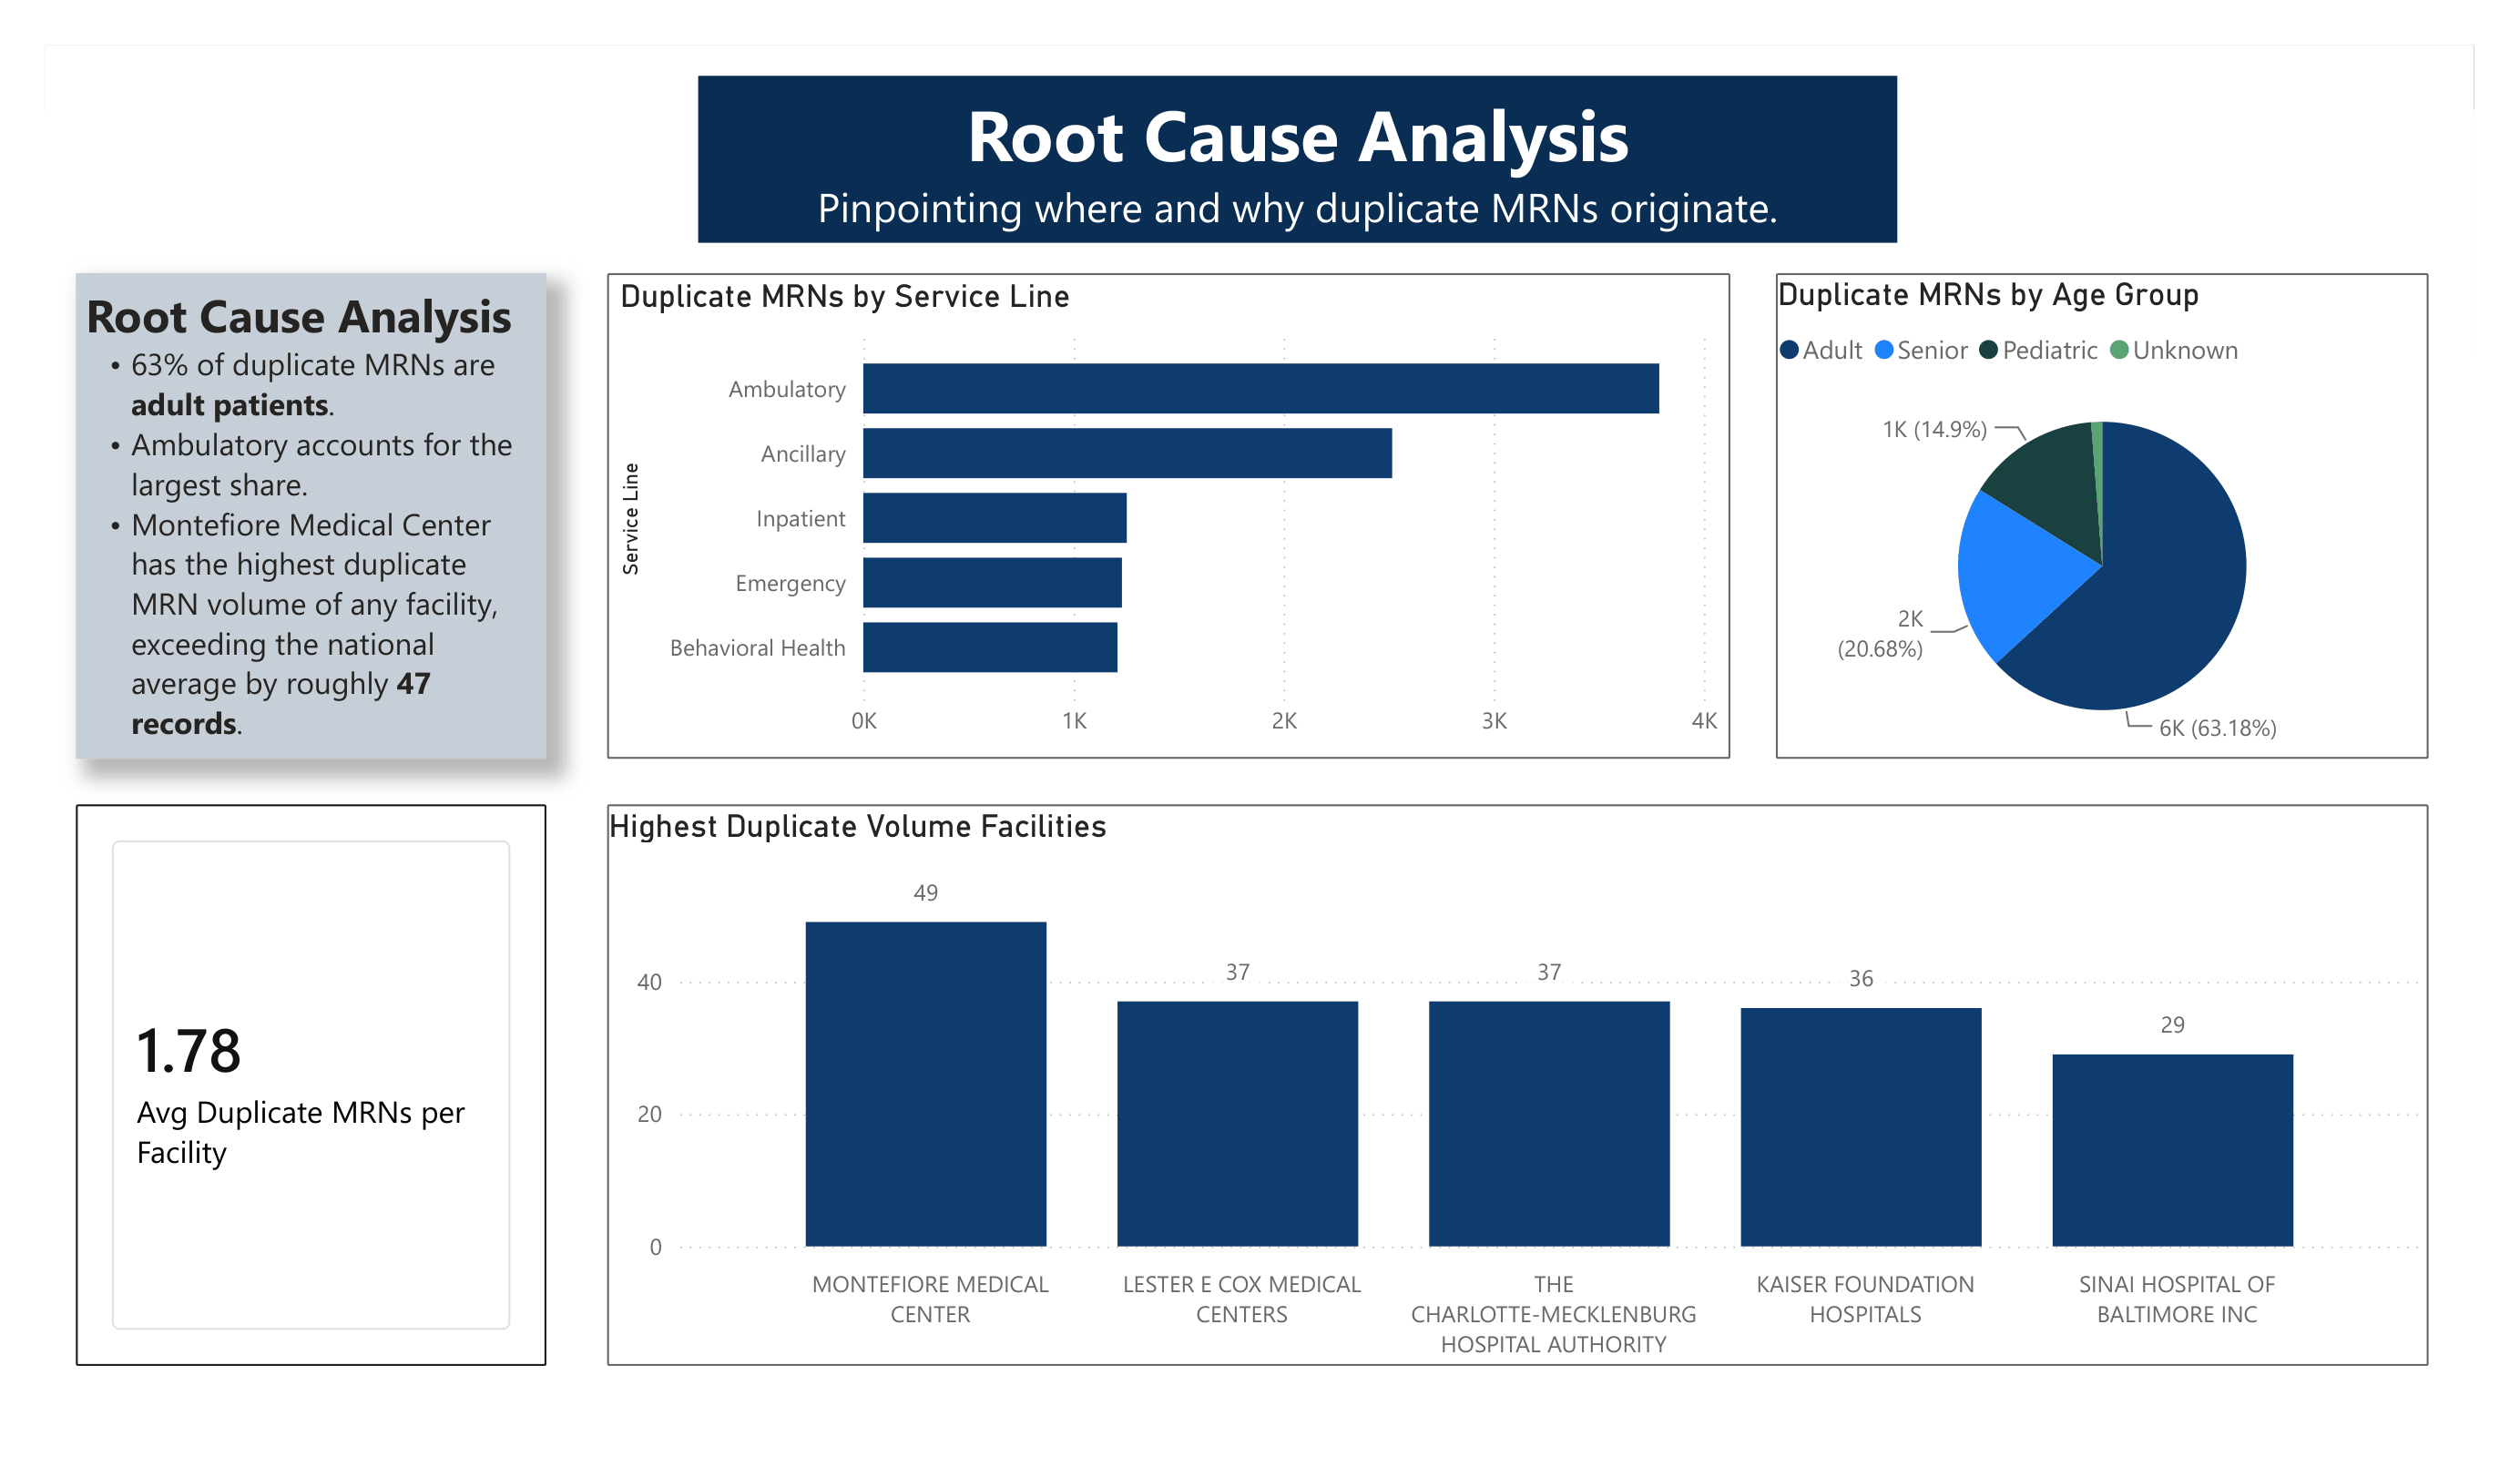

Layout of this report page (visuals, bound fields, positions):
{"tool":"powerbi","page":{"name":"Root Cause Analysis","canvas":[1280,720],"ordinal":1},"visuals":[{"type":"pieChart","title":"Duplicate MRNs by Age Group","fields":{"Category":["fact_duplicate_events.patient_age_group"],"Y":["_DAX.Total Duplicate Events"]},"box":[912,120,344,256],"z":0},{"type":"clusteredBarChart","title":"Duplicate MRNs by Service Line","fields":{"Category":["dim_department.service_line"],"Y":["Count(fact_duplicate_events.duplicate_id)"]},"box":[296,120,592,256],"z":1000},{"type":"lineClusteredColumnComboChart","title":"Highest Duplicate Volume Facilities","fields":{"Category":["fact_duplicate_events.facility"],"Y":["Count(fact_duplicate_events.duplicate_id)"]},"box":[296,400,960,296],"z":2000},{"type":"textbox","box":[16,120,248,256],"z":3000},{"type":"cardVisual","fields":{"Data":["_DAX.Avg Duplicate MRNs per Facility"]},"box":[16,400,248,296],"z":4000},{"type":"textbox","box":[344,16,632,88],"z":5000}]}

Visuals, with their boxes on the page's 1280x720 design canvas (x1, y1, x2, y2). These are canvas units, not pixel positions in the 2520x1457 screenshot, which may show the page scaled, cropped or inside an application window:
"Duplicate MRNs by Age Group" pieChart: crop(912, 120, 1256, 376)
"Duplicate MRNs by Service Line" clusteredBarChart: crop(296, 120, 888, 376)
"Highest Duplicate Volume Facilities" lineClusteredColumnComboChart: crop(296, 400, 1256, 696)
textbox: crop(16, 120, 264, 376)
cardVisual - _DAX.Avg Duplicate MRNs per Facility: crop(16, 400, 264, 696)
textbox: crop(344, 16, 976, 104)
